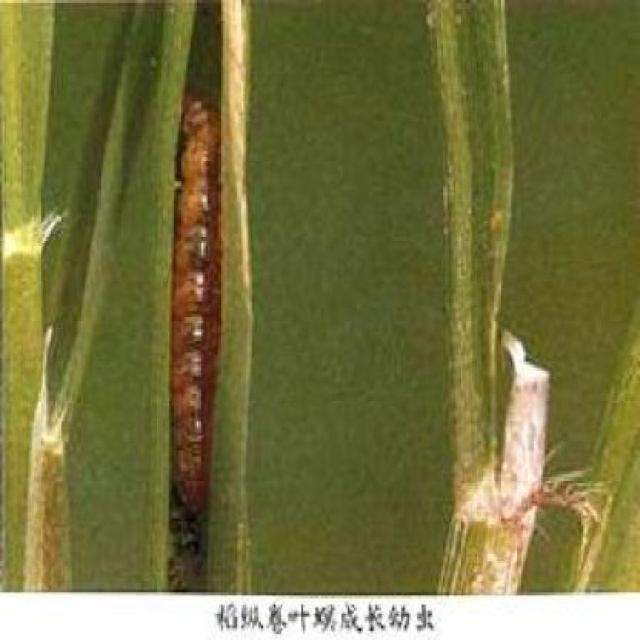leaf-folder: (152, 102, 237, 548)
